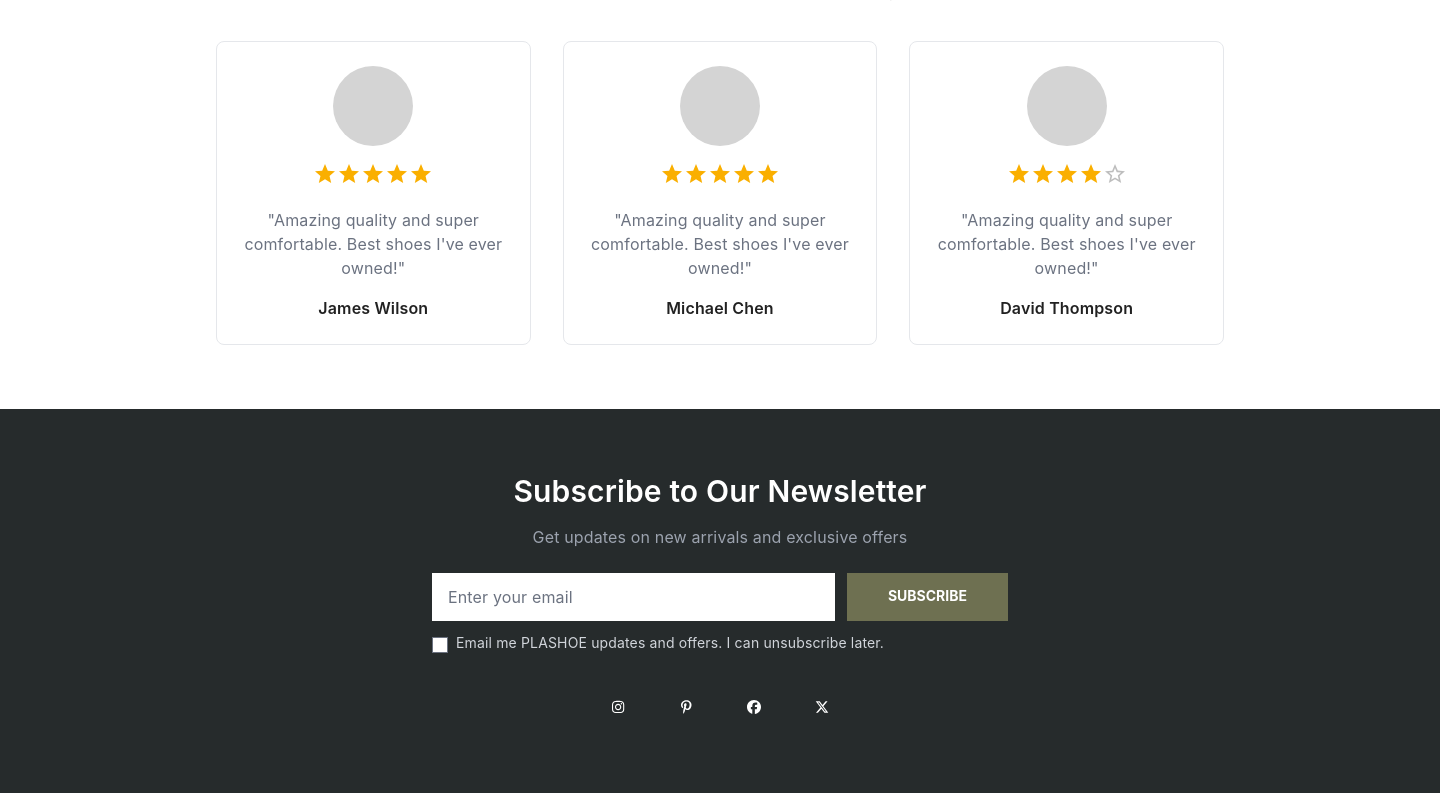
Test case: requires newsletter consent before submitting
The width and height of the screenshot is (1440, 793).
(page scrolled)
In the field labelled "Enter your email": (633, 597) [432,573,835,621], type "subscriber@example.com"
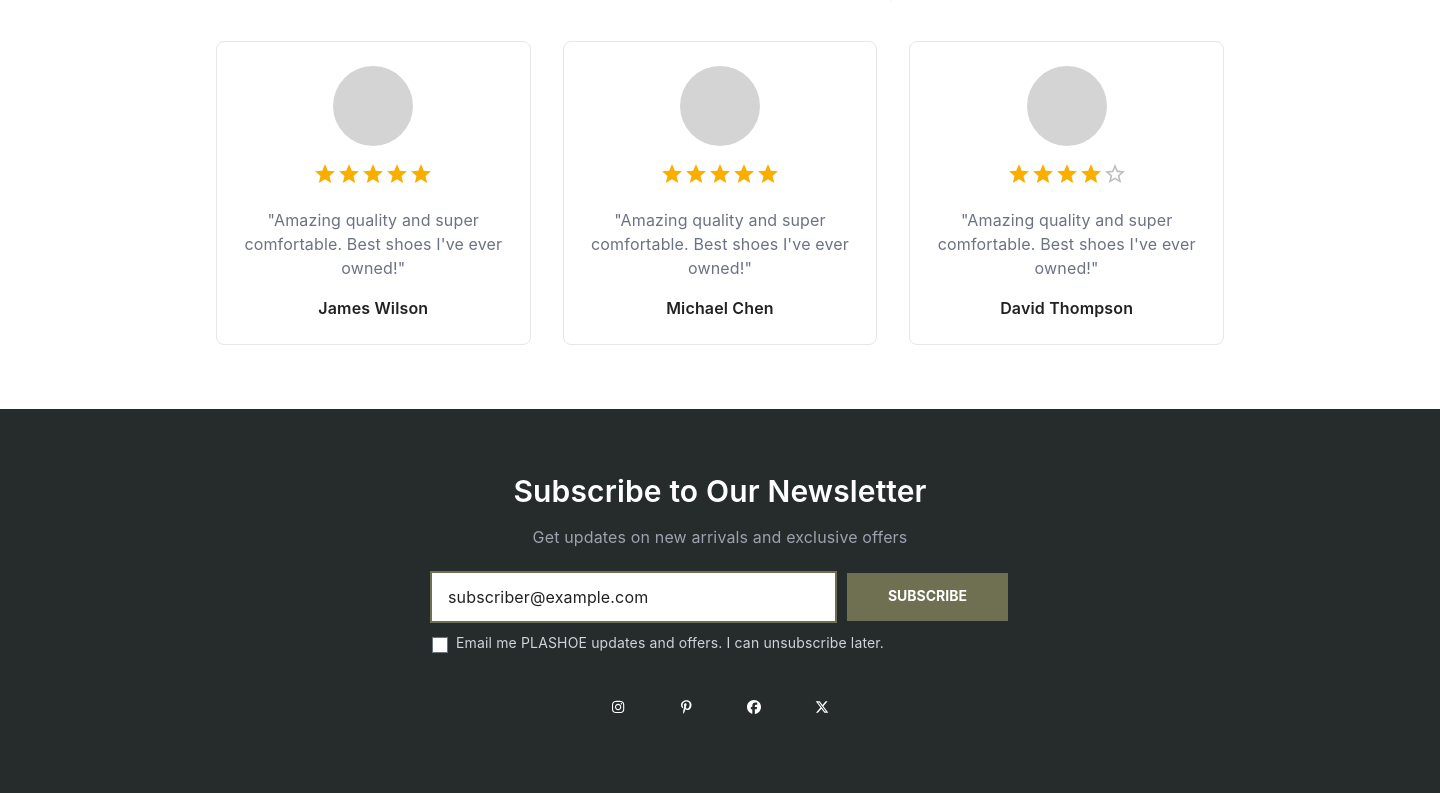
Click the button "SUBSCRIBE": (927, 597) [847,573,1008,621]
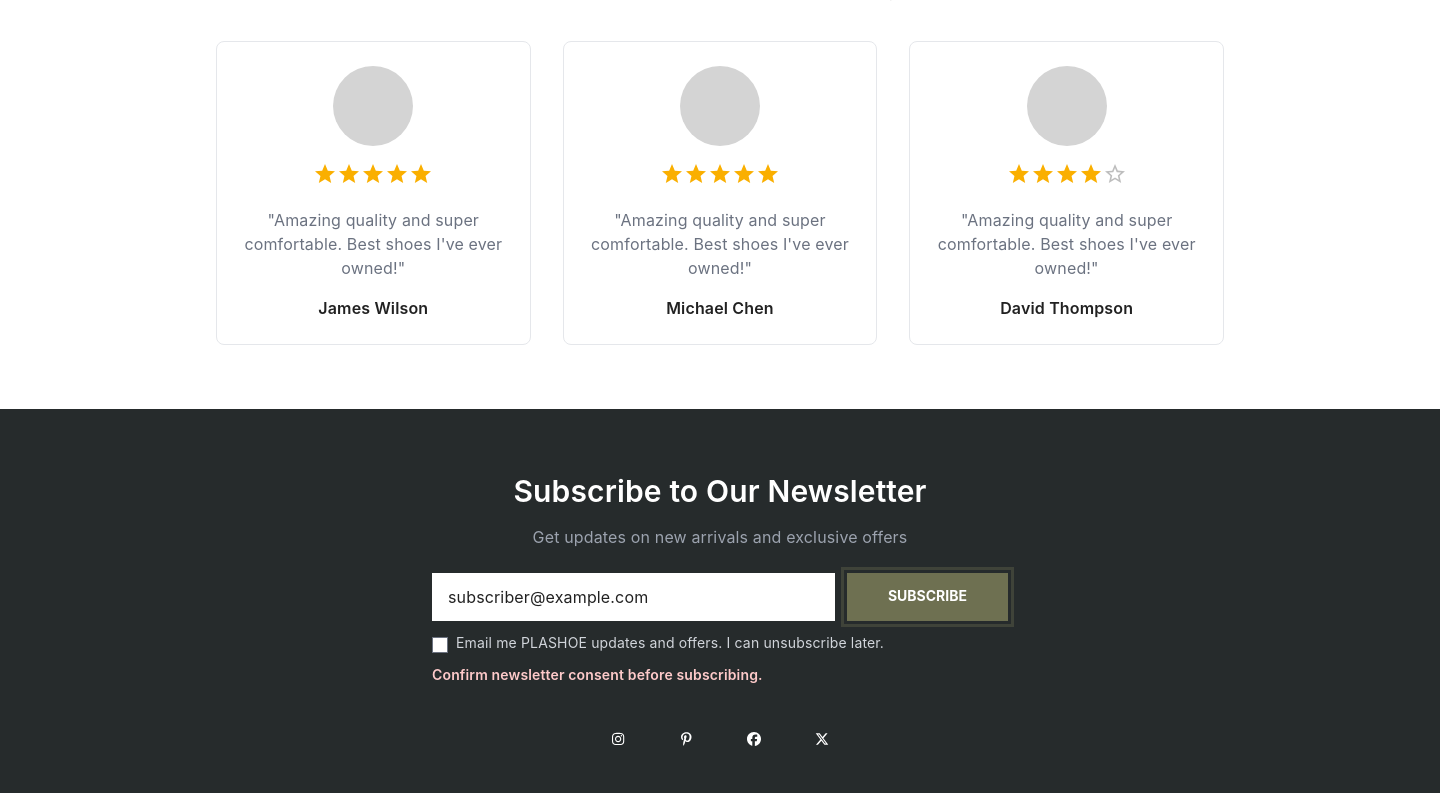
Result: the text "Confirm newsletter consent before subscribing." is shown at [432,666,763,683]
